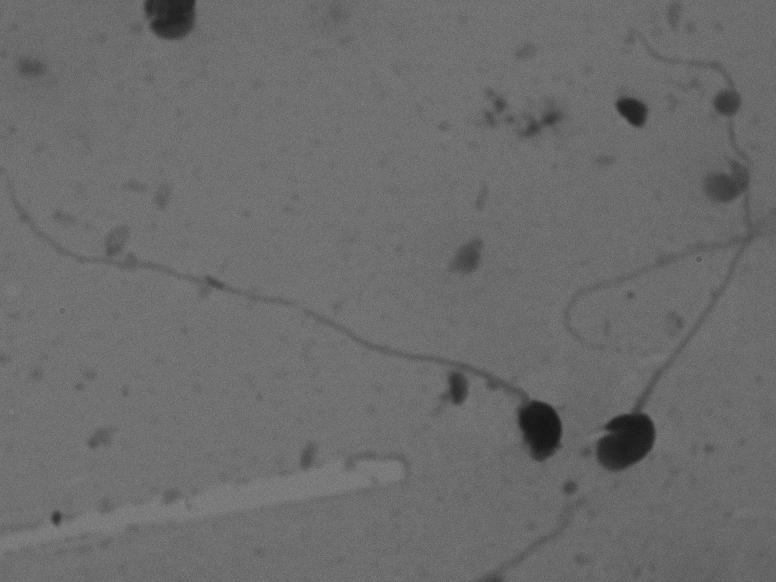Abnormal: (36, 153, 575, 476), (579, 21, 767, 521)
